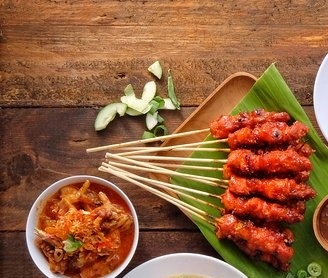sate: (84, 110, 315, 169)
